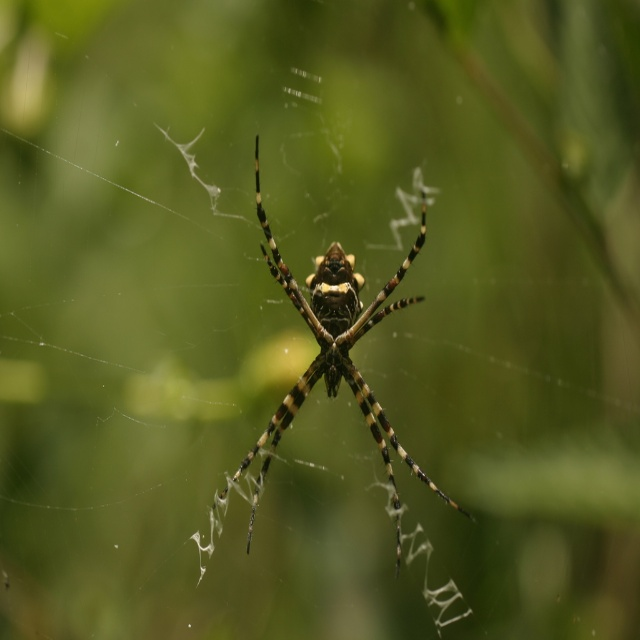Spider: (212, 134, 478, 581)
